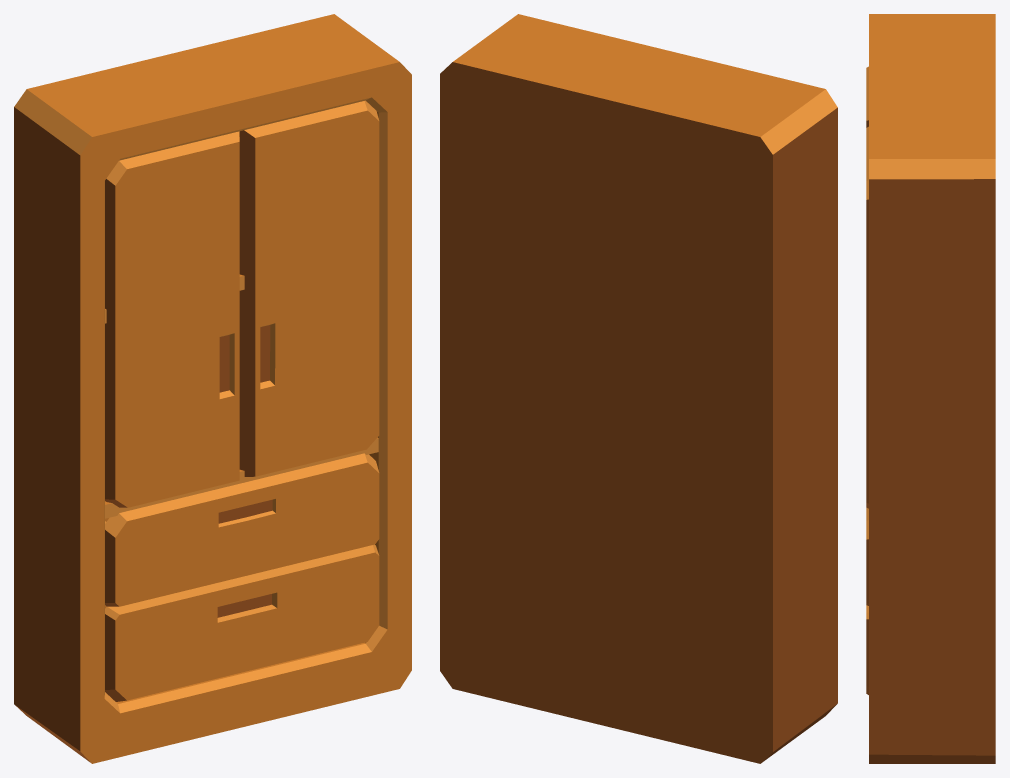
The model's file is CR_Locker_Central_Tall.fbx.
3 views of the same model, side by side, from view 1: azimuth 30°, elevation 25°; view 2: azimuth 150°, elevation 25°; view 3: azimuth 270°, elevation 25° (orthographic). The views are drawn at different scales.
Parts seen in each view (by area): view 1: CR_Locker_Central_Tall, CR_Locker_Central_Tall_Door2, CR_Locker_Central_Tall_Door1, CR_Locker_Central_Tall_Drawer2, CR_Locker_Central_Tall_Drawer1; view 2: CR_Locker_Central_Tall; view 3: CR_Locker_Central_Tall, CR_Locker_Central_Tall_Door2, CR_Locker_Central_Tall_Drawer1, CR_Locker_Central_Tall_Drawer2.
Boxes of the visible parts, x1,y1,x2,y2 form: CR_Locker_Central_Tall: (14,14,411,763); CR_Locker_Central_Tall_Door2: (239,100,379,476); CR_Locker_Central_Tall_Door1: (105,131,239,507); CR_Locker_Central_Tall_Drawer2: (105,544,379,701); CR_Locker_Central_Tall_Drawer1: (105,453,379,606); CR_Locker_Central_Tall: (440,14,837,763); CR_Locker_Central_Tall: (869,14,995,763); CR_Locker_Central_Tall_Door2: (866,126,868,508); CR_Locker_Central_Tall_Drawer1: (866,507,868,605); CR_Locker_Central_Tall_Drawer2: (866,605,868,694).
Bounding box in the file's own units: 1 × 1.8 × 0.3485.
